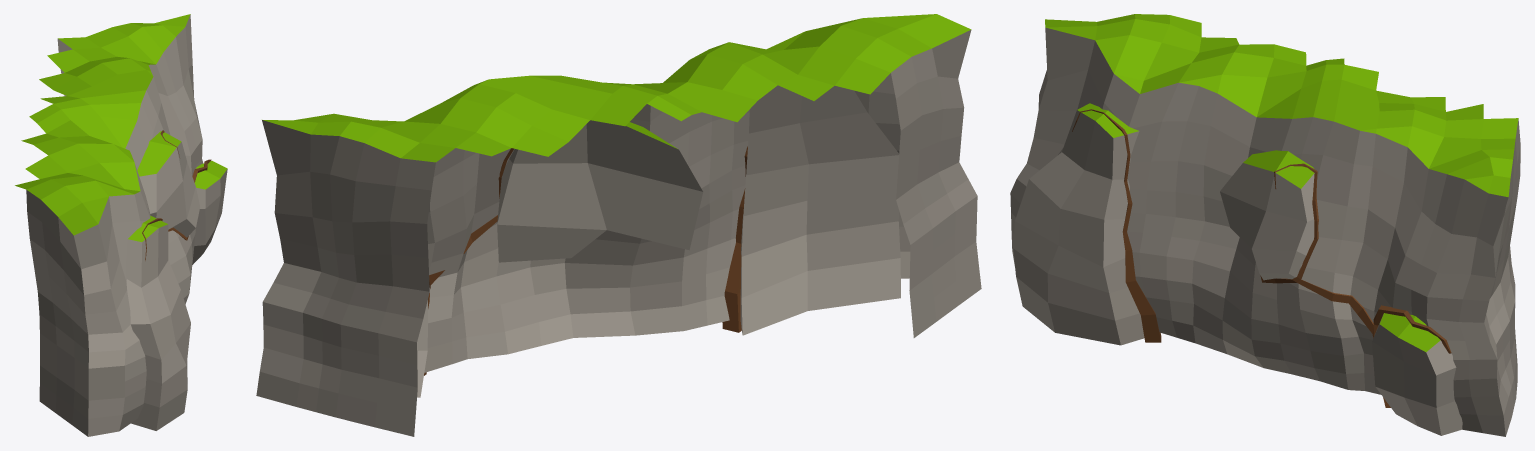
The model's file is Cliff 001.fbx.
The picture shows the model from 3 angles, left to right: view 1: azimuth 30°, elevation 25°; view 2: azimuth 150°, elevation 25°; view 3: azimuth 270°, elevation 25°; orthographic projection. The views are drawn at different scales.
Visible parts, largest first — view 1: Cliff 001; view 2: Cliff 001; view 3: Cliff 001.
Part boxes in pixels (bbox=[...]): Cliff 001: bbox=[15, 14, 227, 436]; Cliff 001: bbox=[256, 14, 981, 436]; Cliff 001: bbox=[1010, 14, 1520, 436].
Bounding box in the file's own units: 804 × 544 × 944.
